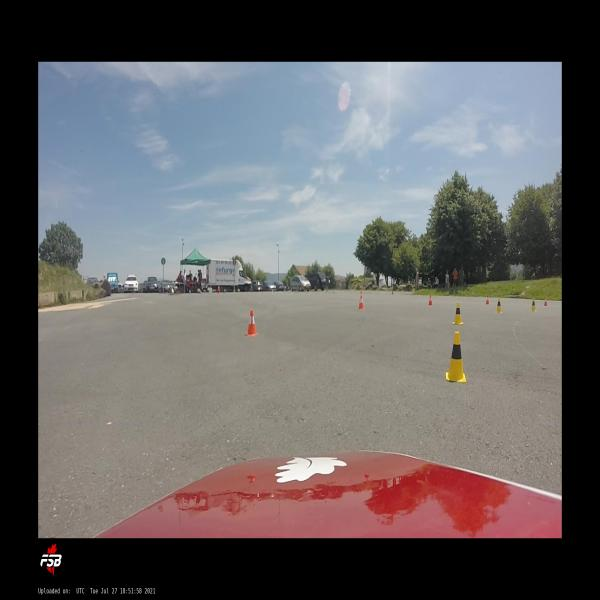orange_cone: (246, 309, 258, 336), (358, 294, 364, 309), (428, 294, 432, 306), (360, 290, 363, 299), (544, 297, 547, 306), (486, 296, 489, 305), (217, 284, 220, 290), (392, 289, 394, 295)
yellow_cone: (445, 332, 467, 383), (453, 302, 463, 325), (496, 297, 502, 314), (530, 298, 536, 312)
